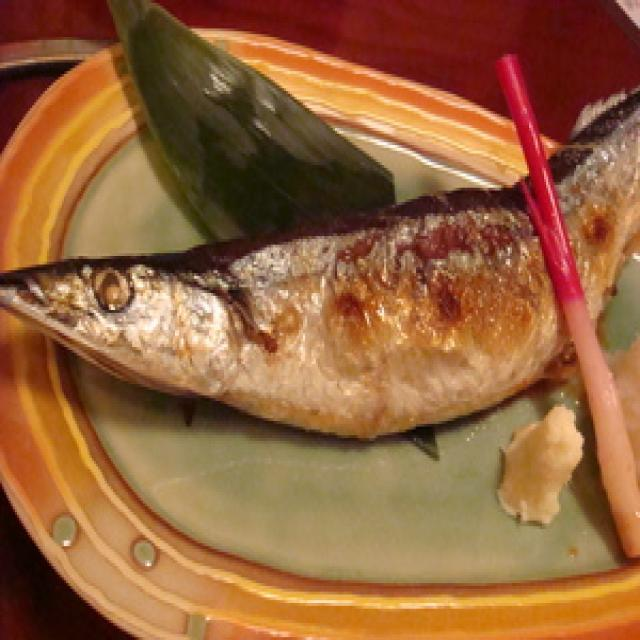熟制海鲜: (0, 205, 640, 452)
